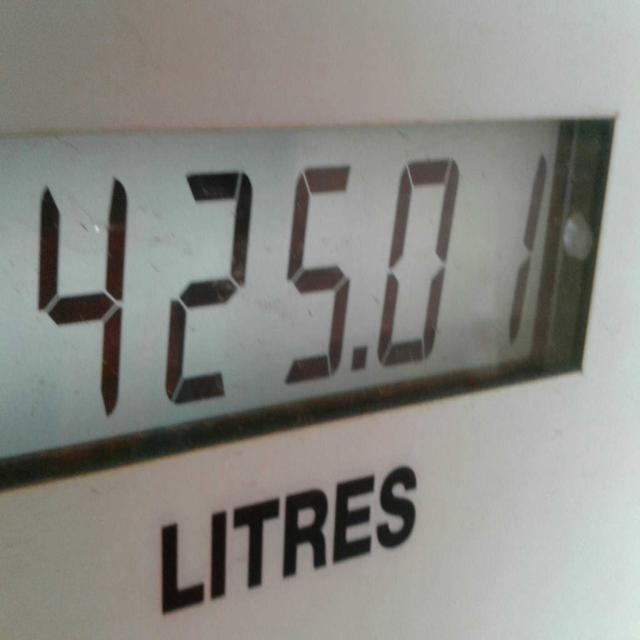.: (350, 327, 378, 383)
0: (367, 153, 463, 384)
1: (496, 150, 564, 372)
2: (157, 170, 256, 428)
4: (28, 164, 137, 428)
5: (275, 164, 358, 396)
